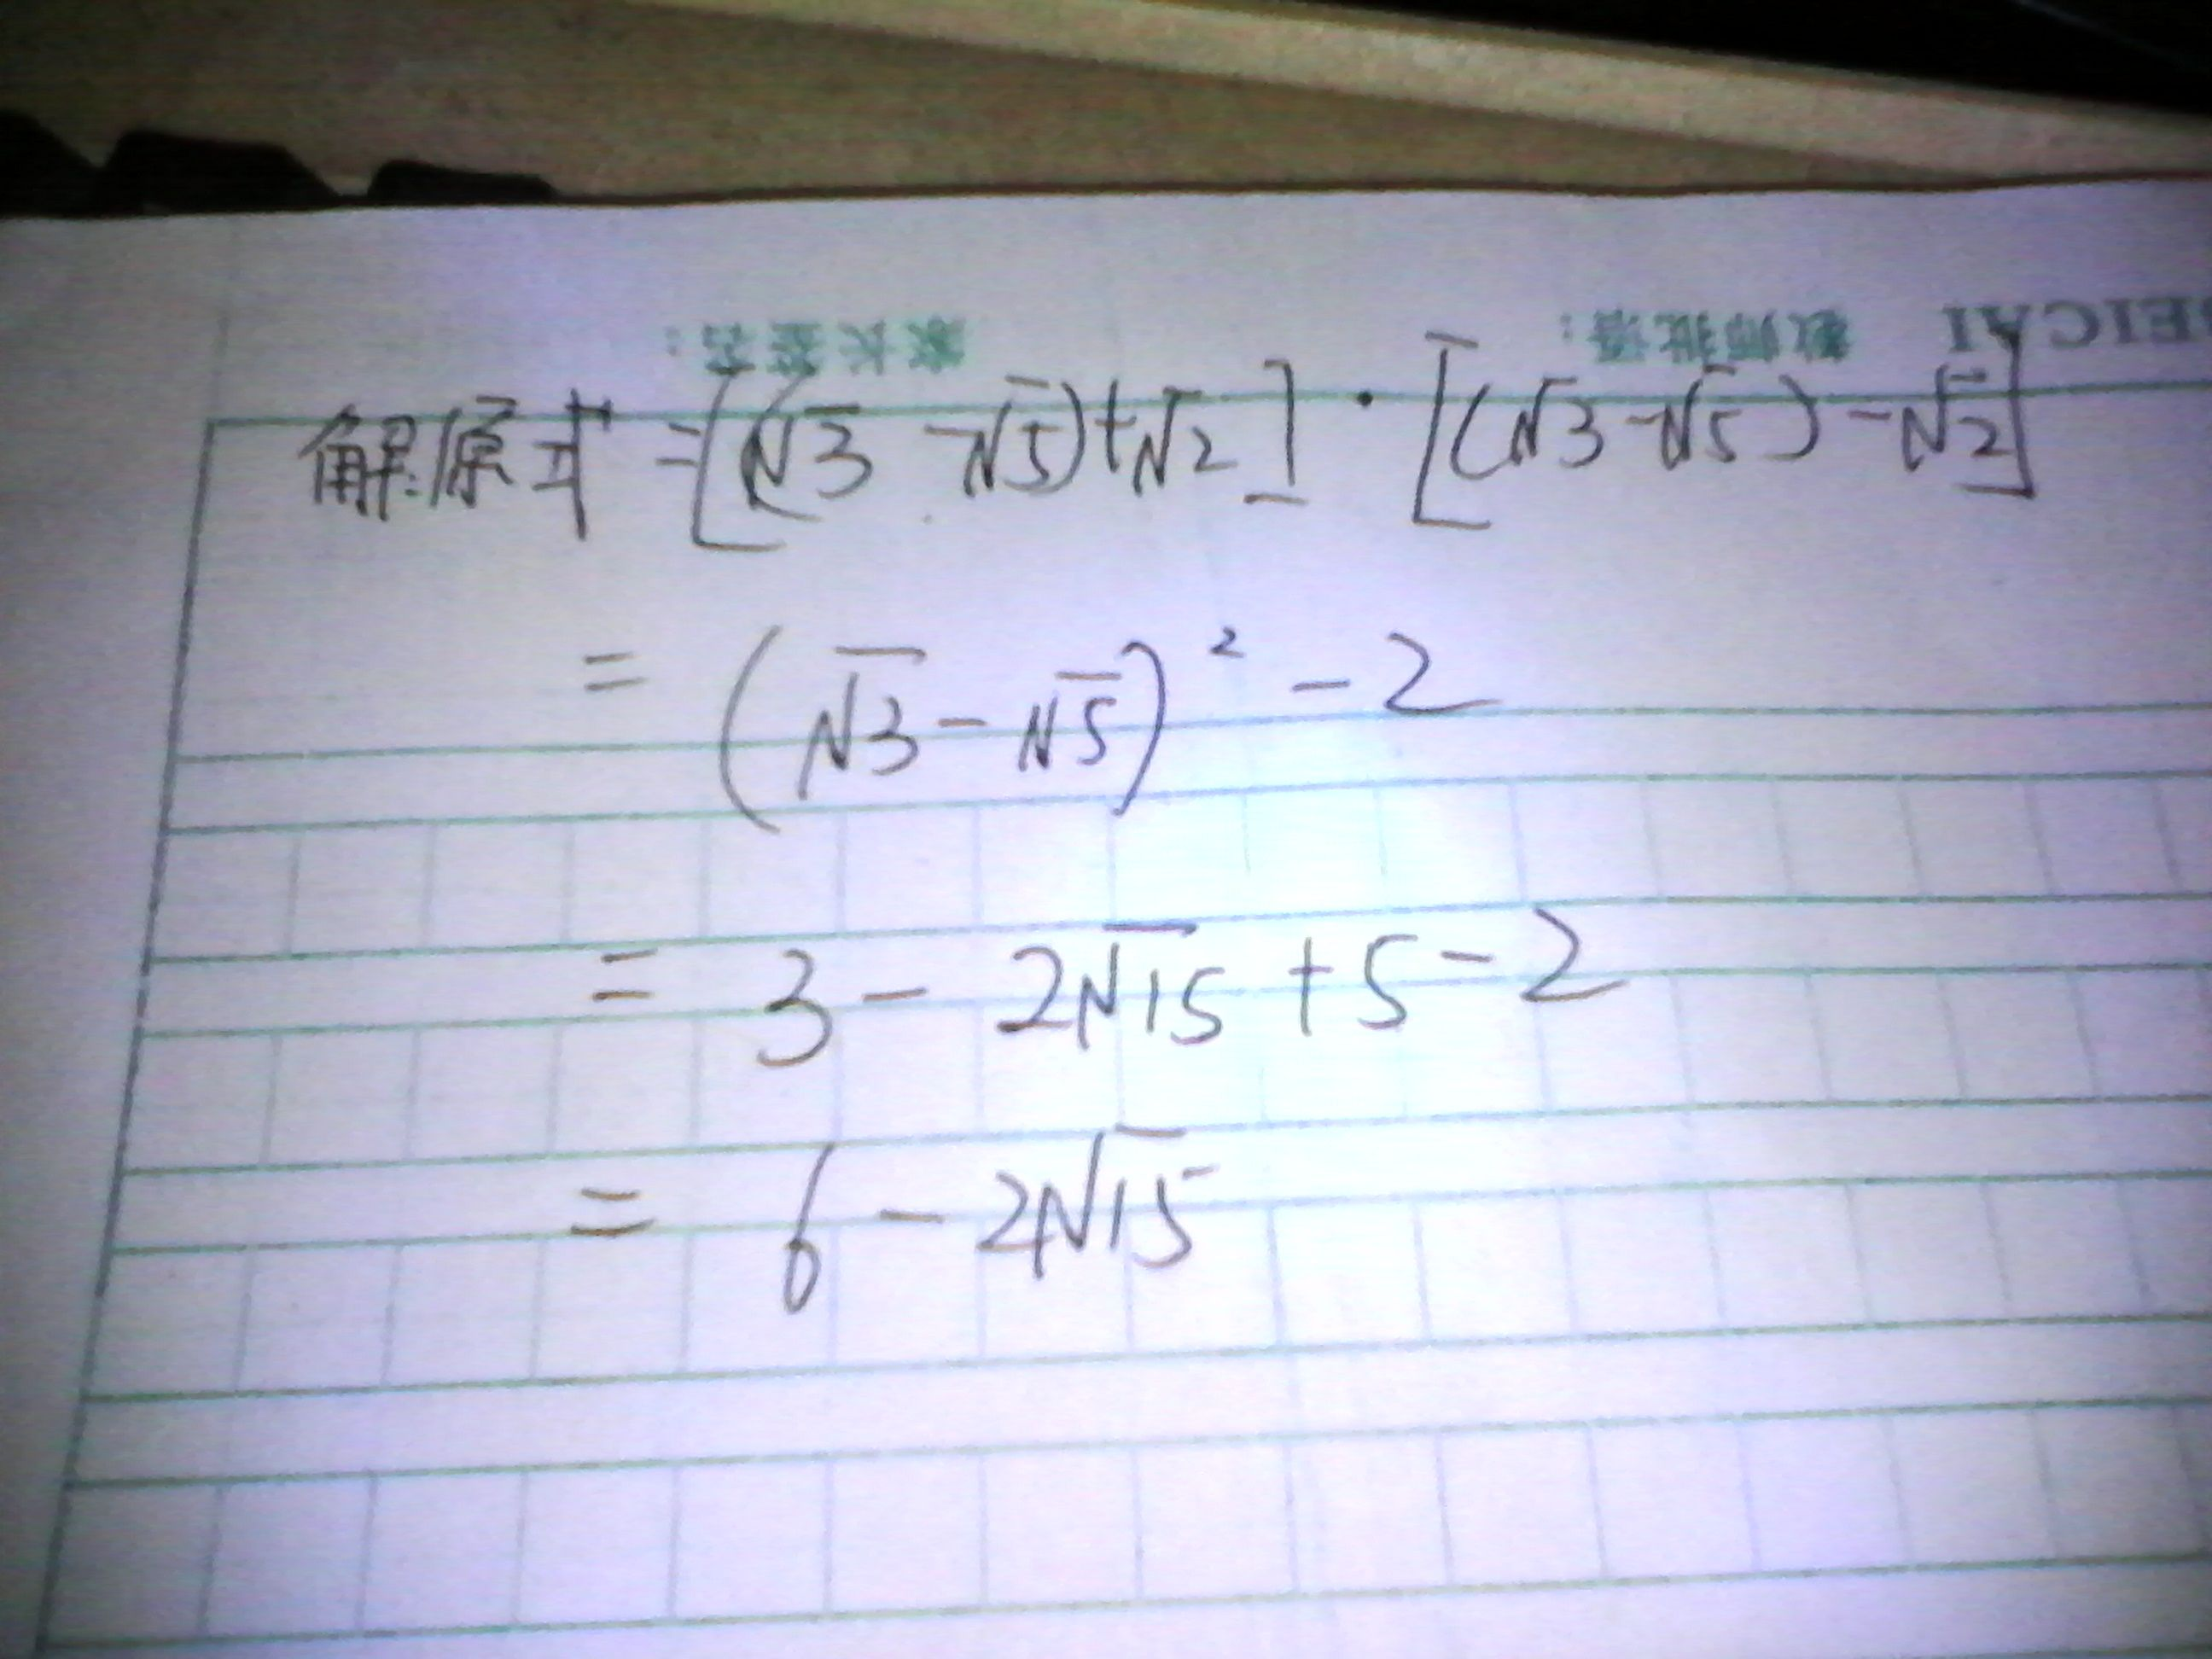sqrt: (1066, 901, 1237, 1077), (782, 640, 953, 809), (751, 394, 897, 525)
square: (1195, 612, 1249, 685)
